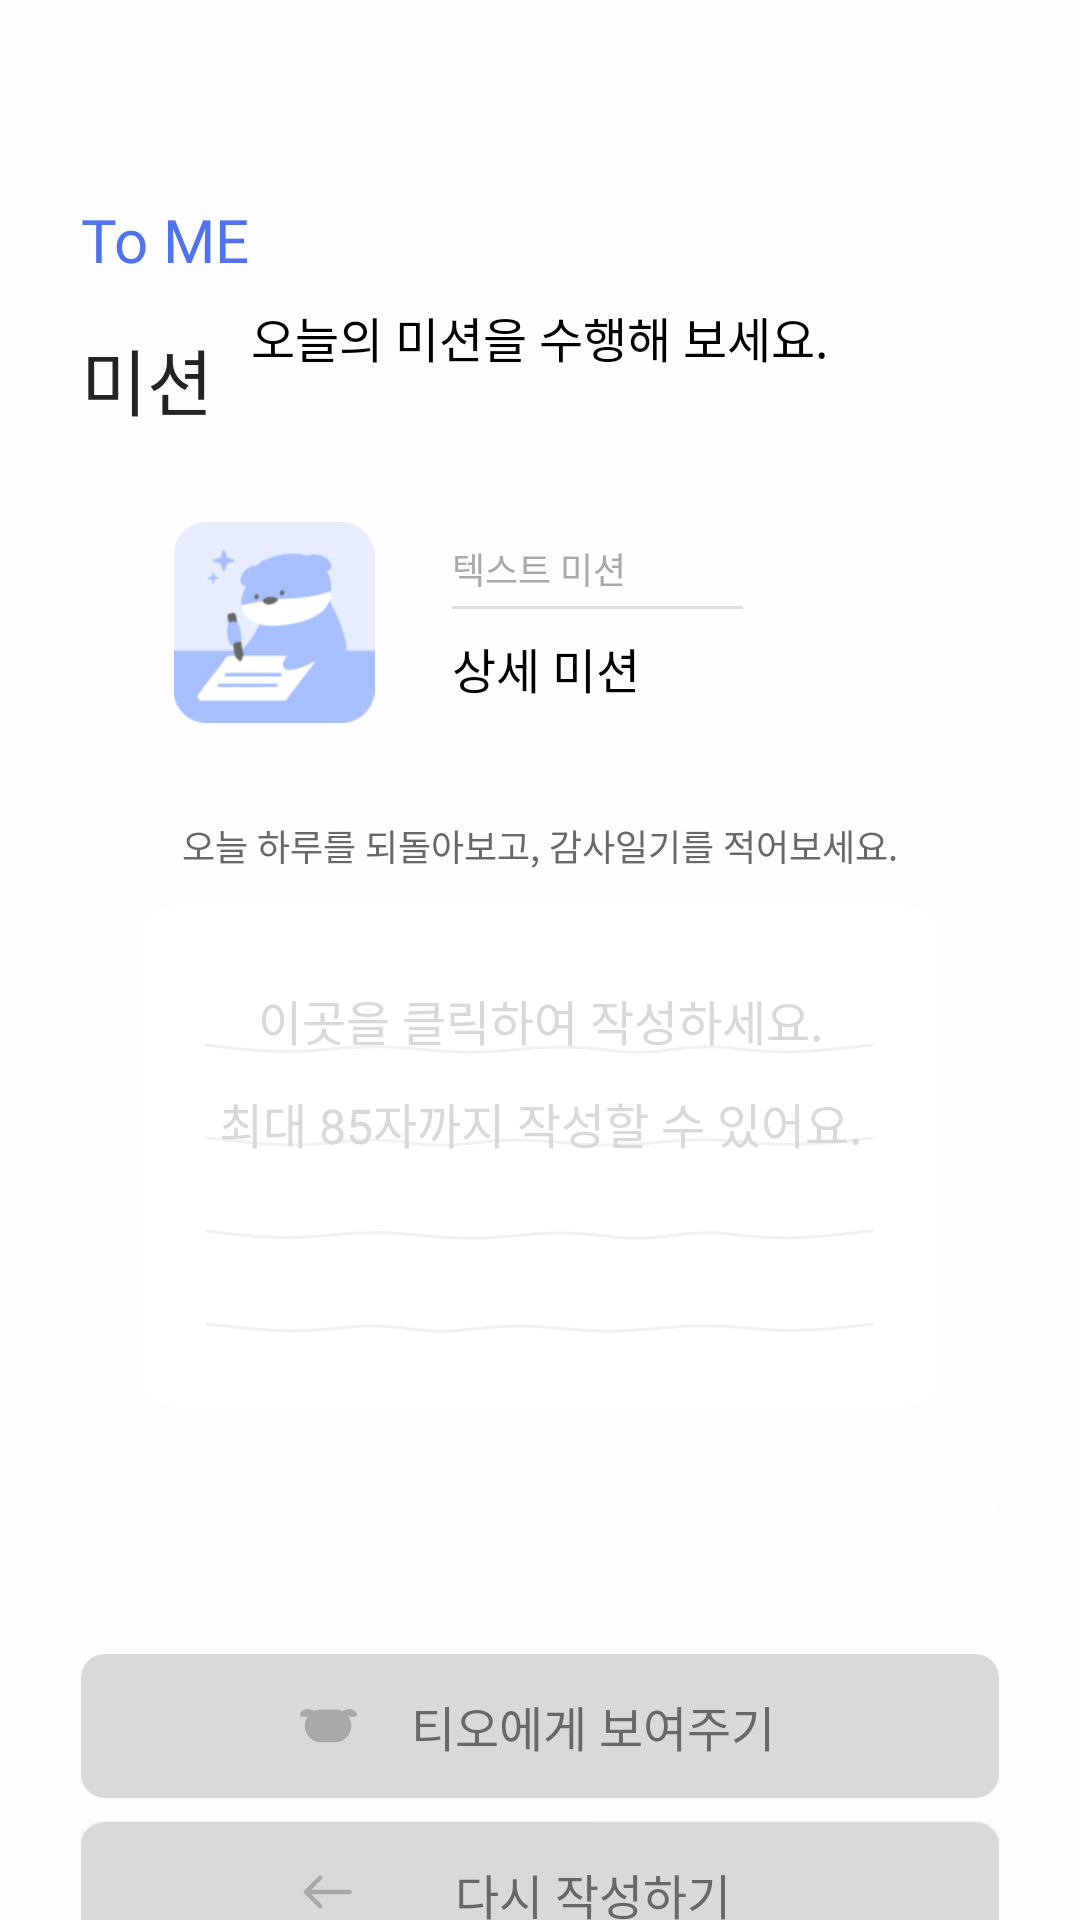

Icon click points for this 1080*1920 phone screenshot, format point (x, y):
mission text: point (274, 635)
